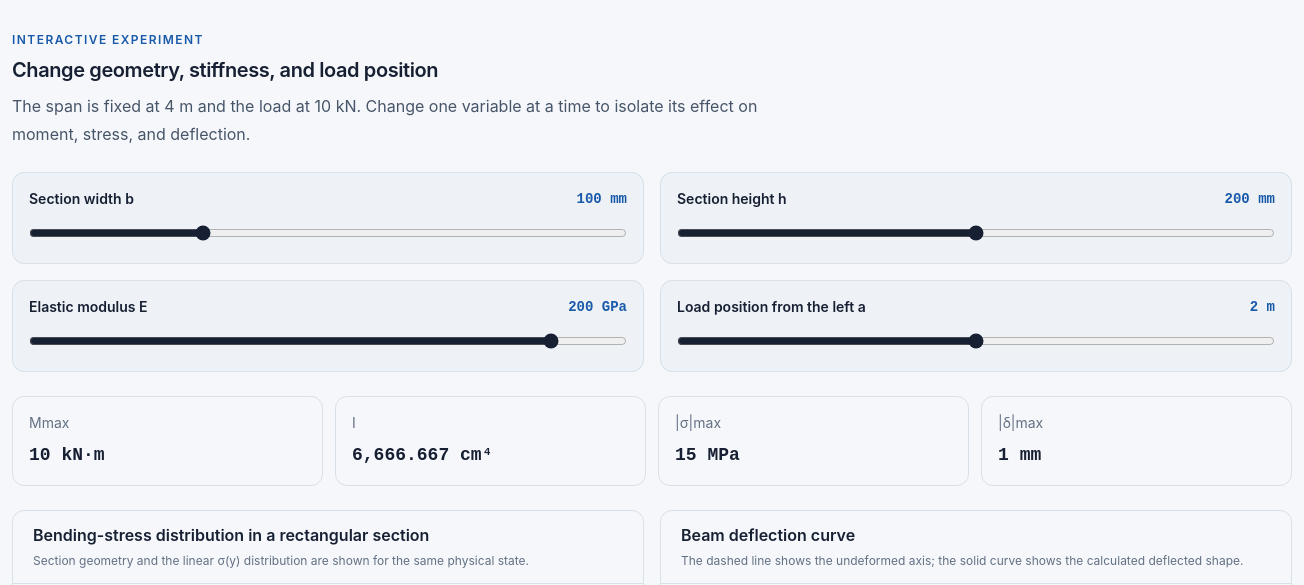
it: BendingInteractiveExplorer › separates maximum moment and maximum deflection locations after moving the load
Set the slider labelled "Load position from the left a" to "1". click: (782, 341)
box: [677, 333, 1275, 349]
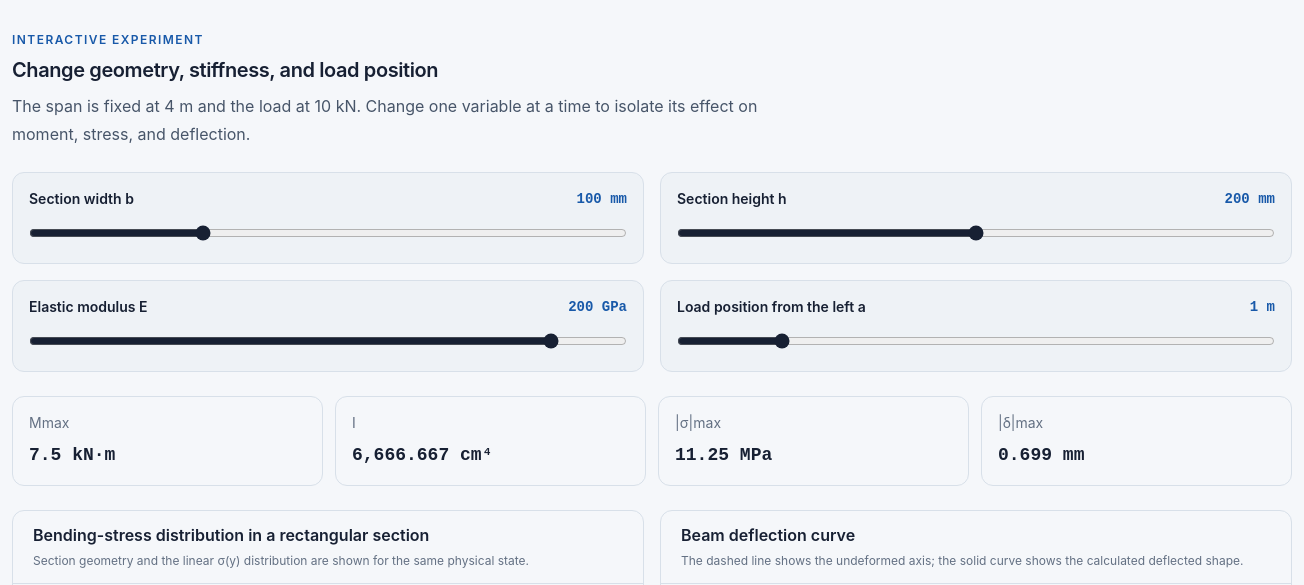
Now the text with test id "bending-interactive-moment" reads "7.5 kN·m", box [29, 445, 115, 465]
Now the text with test id "bending-interactive-deflection" reads "0.699 mm", box [998, 445, 1084, 465]
